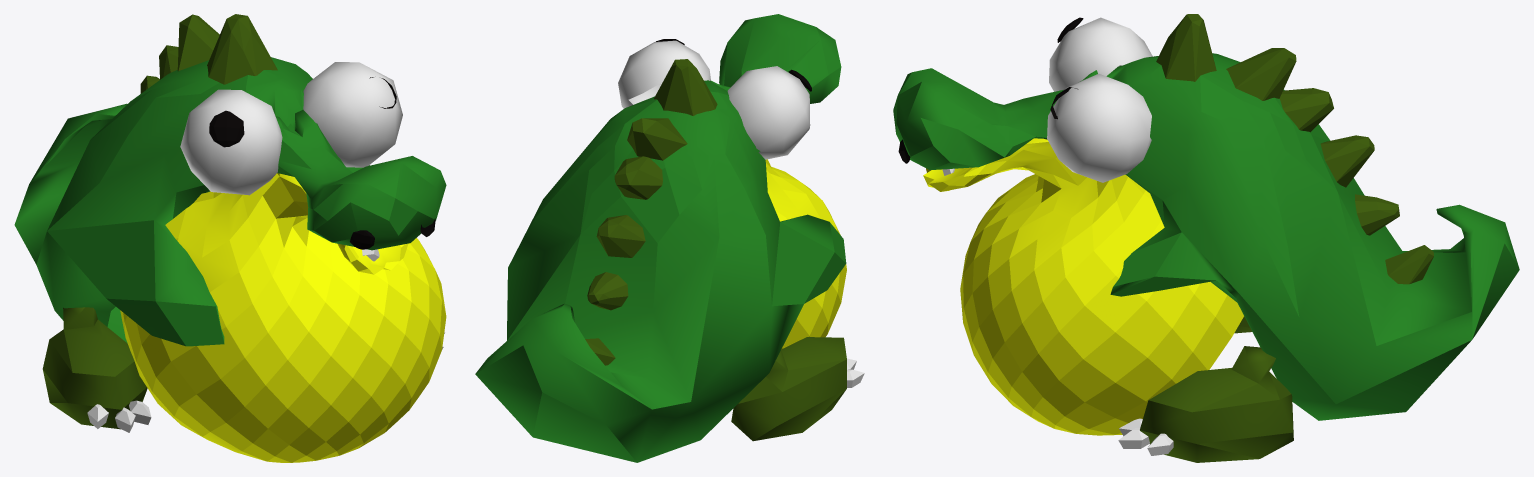
Rendered from EYU.fbx.
3 views of the same model, side by side, from view 1: azimuth 30°, elevation 25°; view 2: azimuth 150°, elevation 25°; view 3: azimuth 270°, elevation 25° (orthographic). The views are drawn at different scales.
Visible parts, largest first — view 1: 球体.019; view 2: 球体.019; view 3: 球体.019.
Boxes of the visible parts, x1,y1,x2,y2 form: 球体.019: (14, 14, 446, 462); 球体.019: (475, 14, 864, 462); 球体.019: (893, 14, 1519, 462).
Size of the model in its own units: 295 by 309 by 443.
